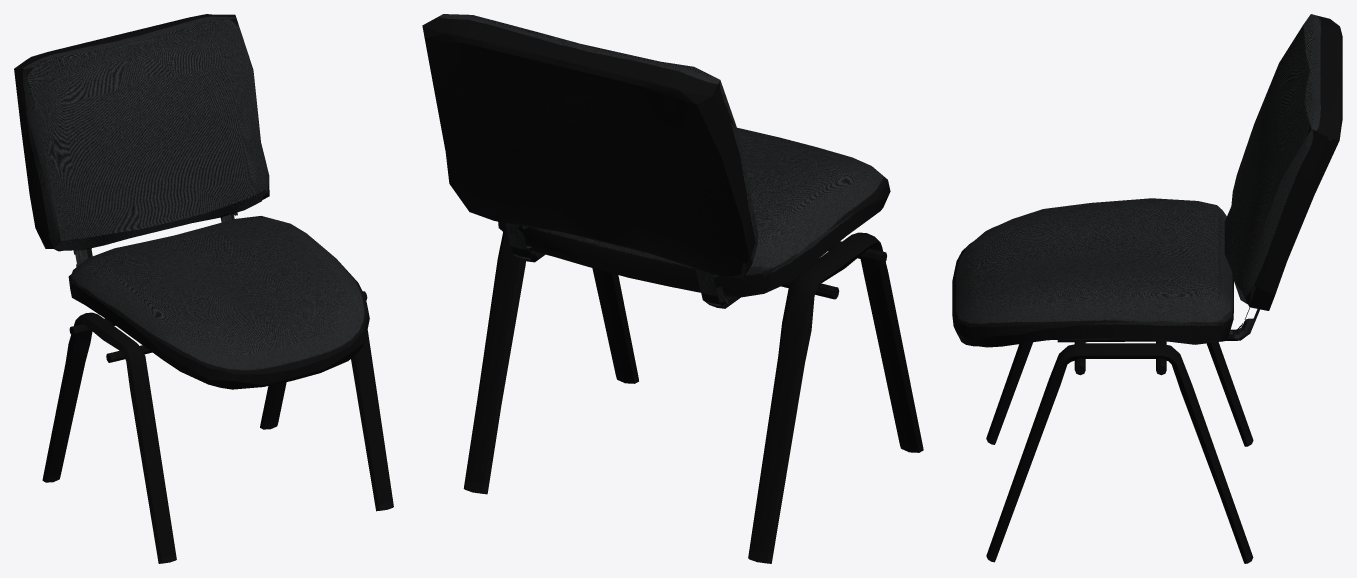
The model's file is Chair.fbx.
3 views of the same model, side by side, from view 1: azimuth 30°, elevation 25°; view 2: azimuth 150°, elevation 25°; view 3: azimuth 270°, elevation 25° (orthographic). The views are drawn at different scales.
Parts seen in each view (by area): view 1: ChairSeat; view 2: ChairSeat; view 3: ChairSeat.
Part boxes in pixels (bbox=[...]): ChairSeat: bbox=[14, 14, 393, 563]; ChairSeat: bbox=[422, 14, 923, 563]; ChairSeat: bbox=[952, 14, 1342, 563].
Size of the model in its own units: 62.62 by 92.16 by 74.88.
